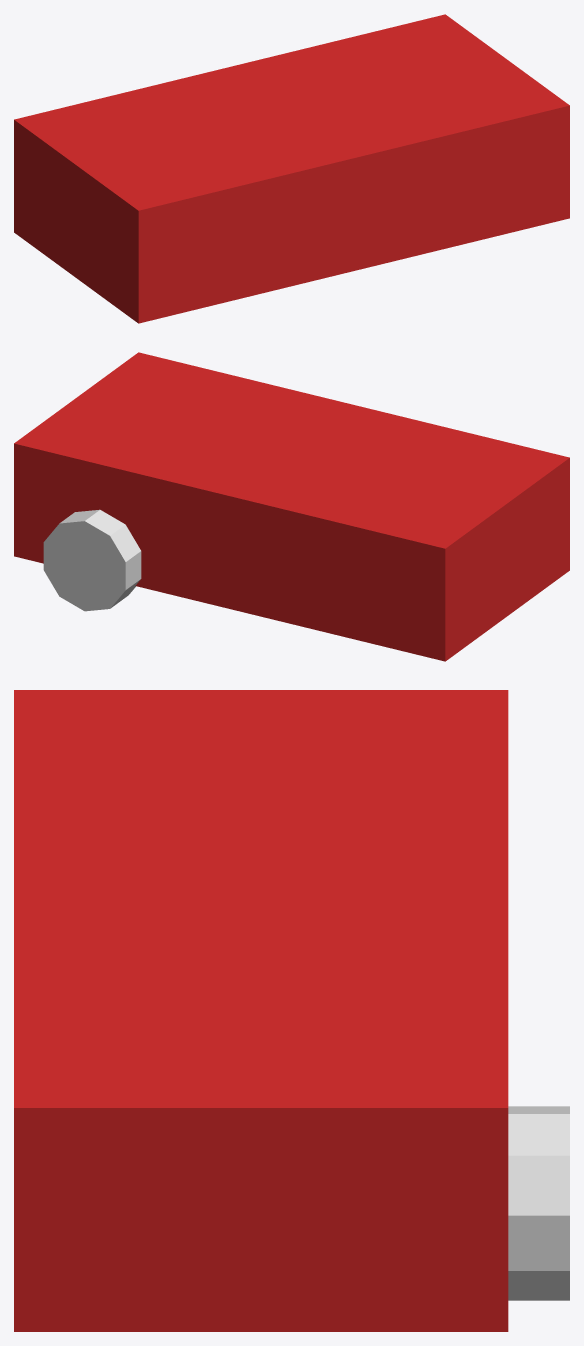
File: car_paint.out_car.glb
3 renders of one model, top to bottom at view 1: azimuth 30°, elevation 25°; view 2: azimuth 150°, elevation 25°; view 3: azimuth 270°, elevation 25°, orthographic. The views are drawn at different scales.
Visible parts, largest first — view 1: Body; view 2: Body, Trim; view 3: Body, Trim.
Boxes of the visible parts, left/top/right/bottom form: Body: left=14, top=14, right=569, bottom=323; Body: left=14, top=352, right=569, bottom=661; Trim: left=43, top=509, right=141, bottom=611; Body: left=14, top=690, right=508, bottom=1331; Trim: left=508, top=1106, right=569, bottom=1300.
Size of the model in its own units: 4 by 1.2 by 2.25.
